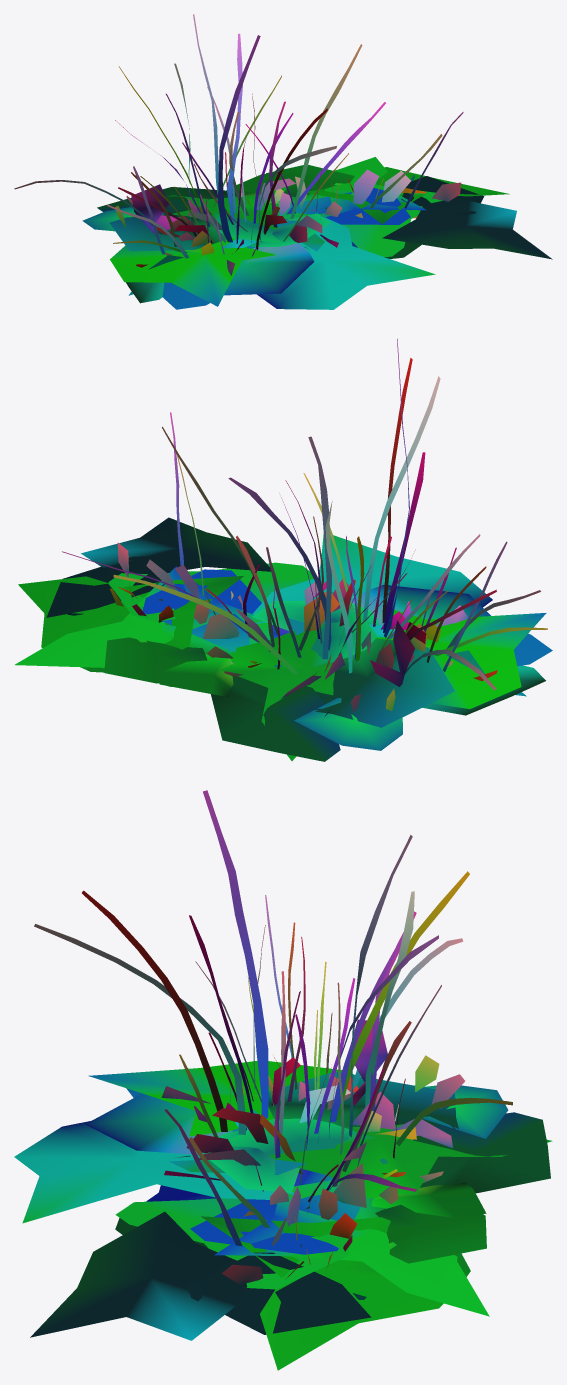
The model's file is Wild_Grass_vdilbaiia_Mid_vdilbaiia_VarD_LOD1.fbx.
3 views of the same model, one above another, from view 1: azimuth 30°, elevation 25°; view 2: azimuth 150°, elevation 25°; view 3: azimuth 270°, elevation 25° (orthographic). The views are drawn at different scales.
Parts seen in each view (by area): view 1: _gufj_VarD_LOD2; view 2: _gufj_VarD_LOD2; view 3: _gufj_VarD_LOD2.
Boxes of the visible parts, left/top/right/bottom form: _gufj_VarD_LOD2: left=14, top=14, right=552, bottom=309; _gufj_VarD_LOD2: left=15, top=338, right=552, bottom=761; _gufj_VarD_LOD2: left=14, top=790, right=552, bottom=1370.
Size of the model in its own units: 93.92 by 50.65 by 65.31.
